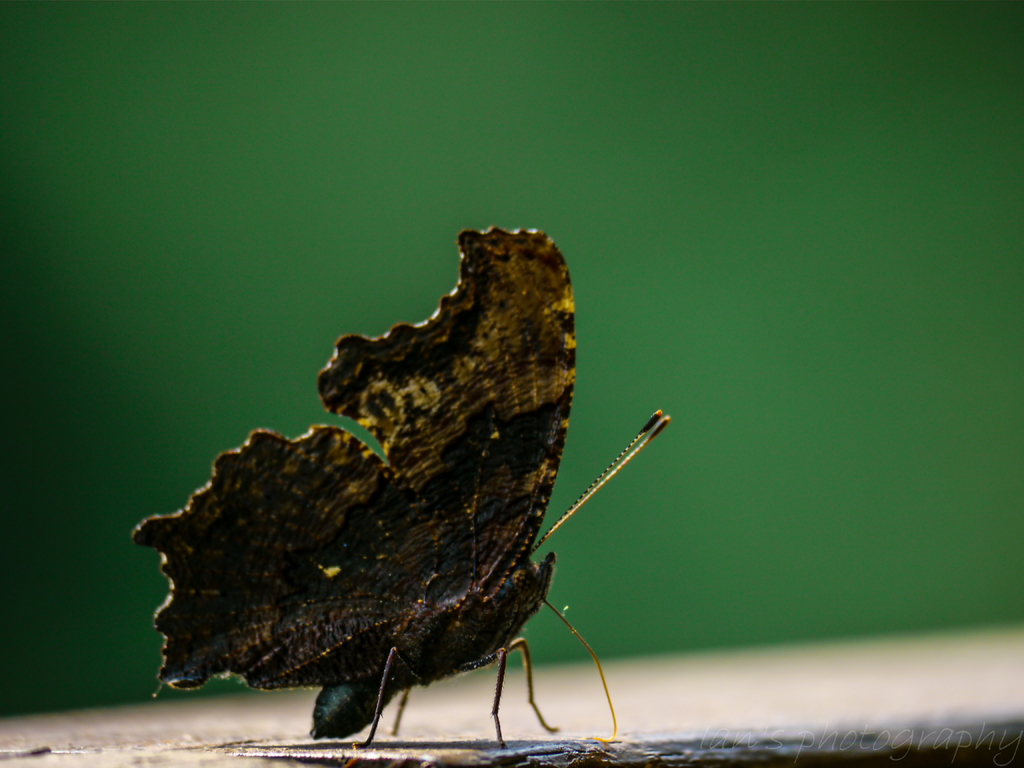Butterfly: (120, 216, 673, 736)
